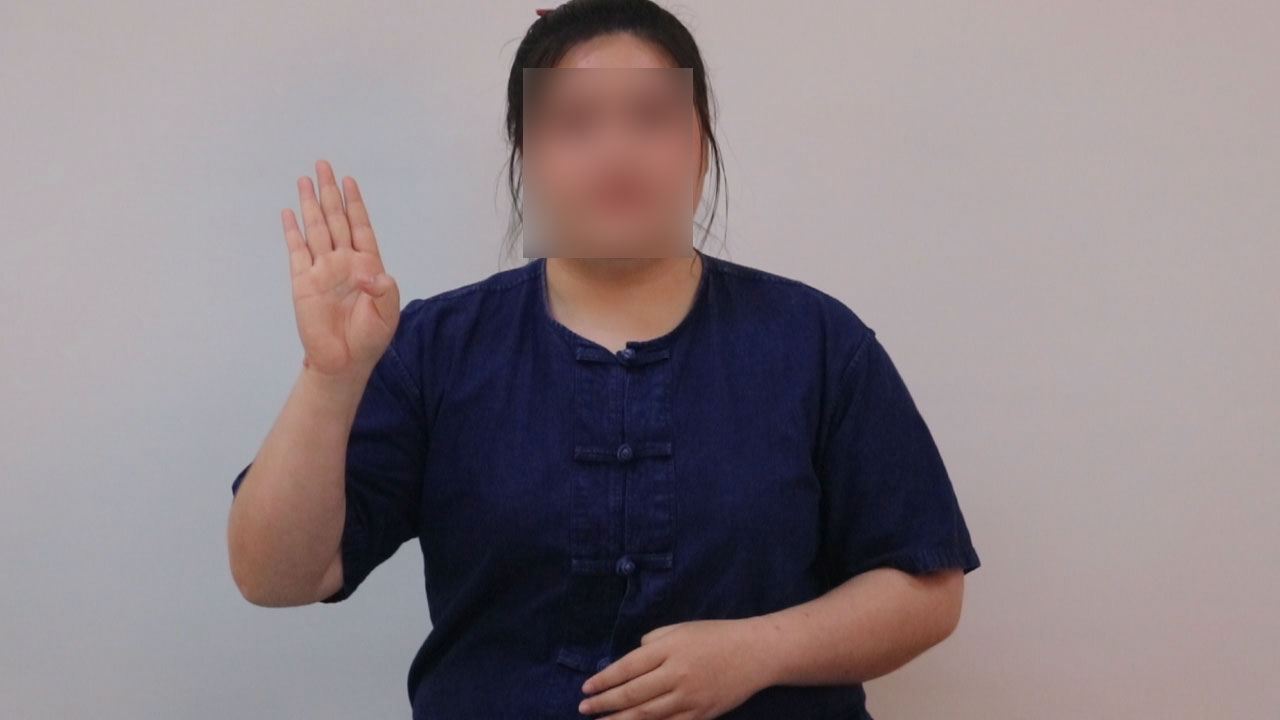bor: (258, 143, 425, 404)
